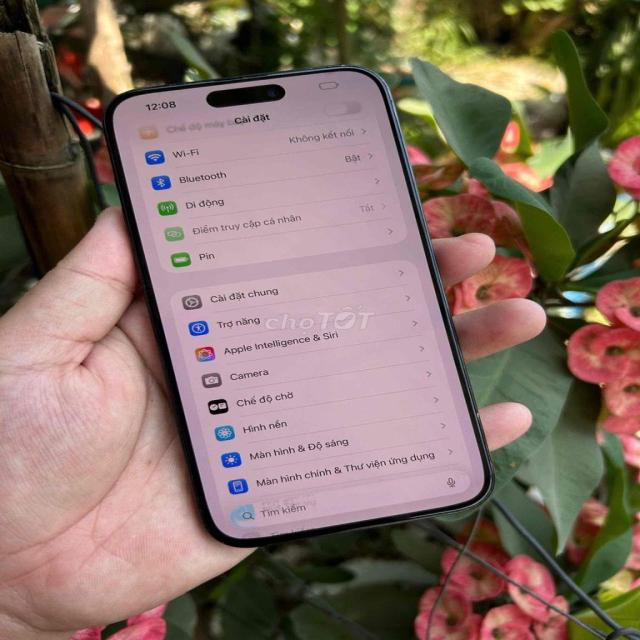scratch: (469, 407, 484, 420), (338, 61, 348, 67)
